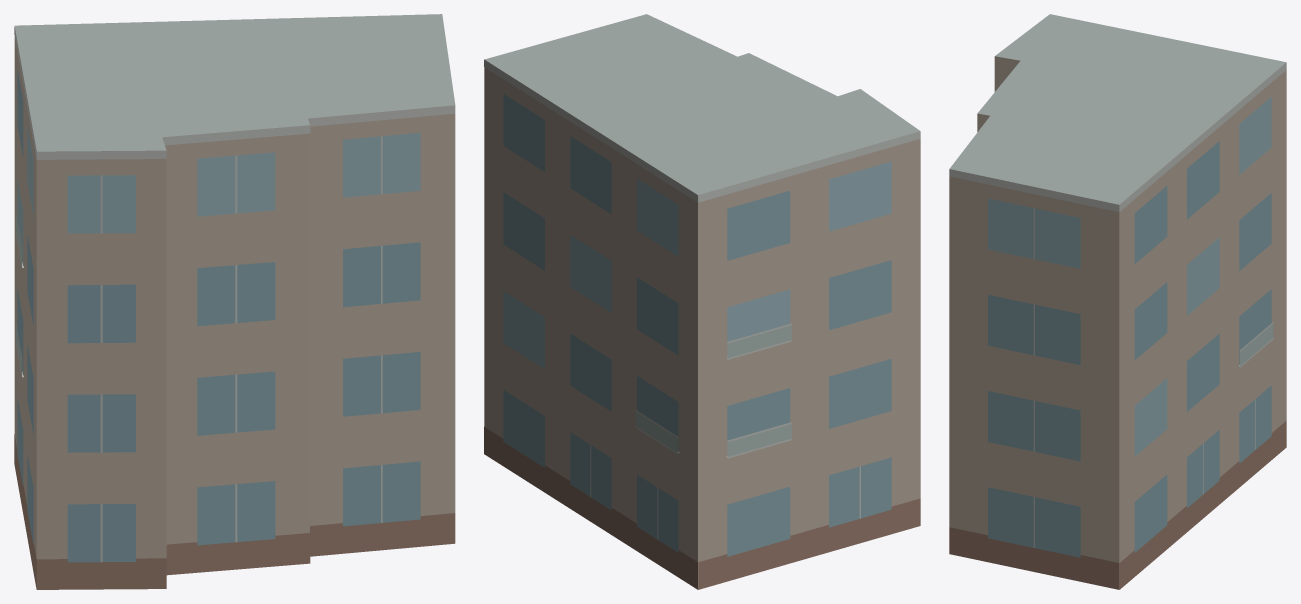
The model's file is survey-upis-32616483.glb.
3 views of the same model, side by side, from view 1: azimuth 30°, elevation 25°; view 2: azimuth 150°, elevation 25°; view 3: azimuth 270°, elevation 25° (orthographic). The views are drawn at different scales.
Visible parts, largest first — view 1: survey-upis-32616483.tmp; view 2: survey-upis-32616483.tmp; view 3: survey-upis-32616483.tmp.
Part boxes in pixels (x1,y1,x2,y2): survey-upis-32616483.tmp: [14, 14, 455, 589]; survey-upis-32616483.tmp: [484, 14, 920, 589]; survey-upis-32616483.tmp: [949, 14, 1286, 589].
Bounding box in the file's own units: 13.61 × 12.8 × 10.17.
